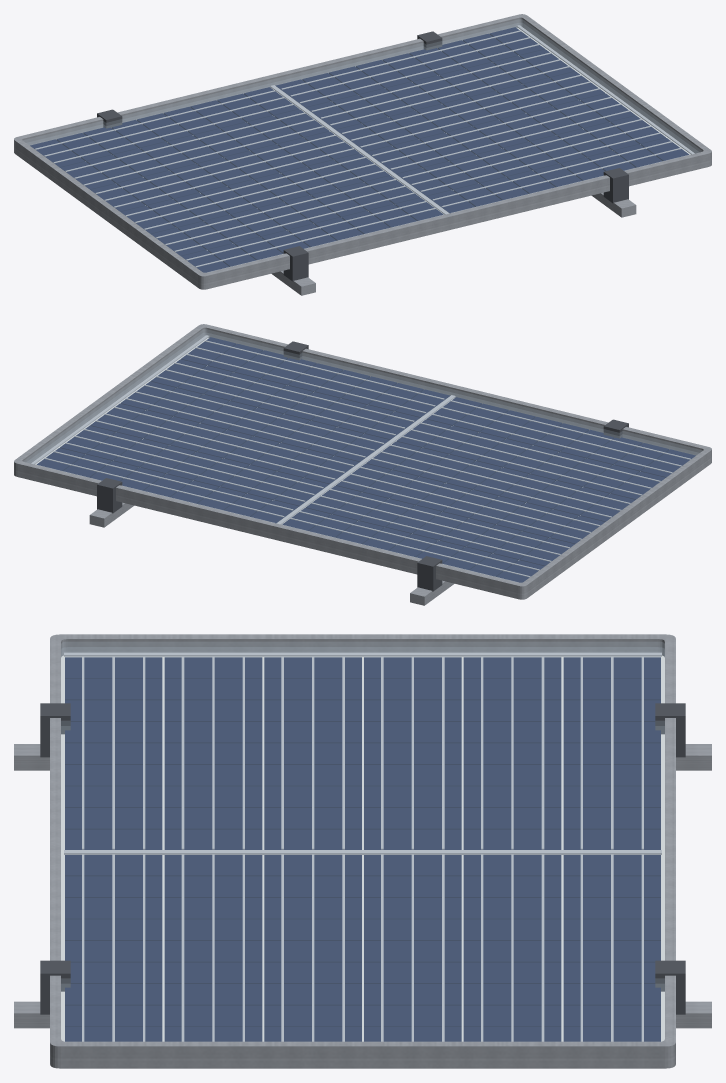
Rendered from solar-panel.glb.
3 renders of one model, top to bottom at view 1: azimuth 30°, elevation 25°; view 2: azimuth 150°, elevation 25°; view 3: azimuth 270°, elevation 25°, orthographic. The views are drawn at different scales.
Visible parts, largest first — view 1: CoverGlass, CellField, Frame, Busbars, RoofBracket; view 2: CoverGlass, CellField, Frame, Busbars, RoofBracket; view 3: CoverGlass, CellField, Frame, Busbars, Backsheet, RoofBracket.
Part boxes in pixels (box(x1,y1,x2,y2)): CoverGlass: box(24, 20, 701, 272); CellField: box(30, 27, 688, 272); Frame: box(14, 14, 711, 289); Busbars: box(35, 25, 694, 271); RoofBracket: box(97, 31, 636, 295); CoverGlass: box(24, 330, 701, 582); CellField: box(37, 337, 695, 582); Frame: box(14, 324, 711, 599); Busbars: box(31, 335, 690, 581); RoofBracket: box(89, 341, 628, 605); CoverGlass: box(61, 642, 664, 1041); CellField: box(65, 657, 660, 1041); Frame: box(50, 634, 675, 1068); Busbars: box(64, 652, 661, 1041); Backsheet: box(61, 655, 664, 1041); RoofBracket: box(14, 703, 711, 1028).
Bounding box in the file's own units: 1.76 × 0.11 × 1.26.
Materials: 10 (1 with a texture image).
